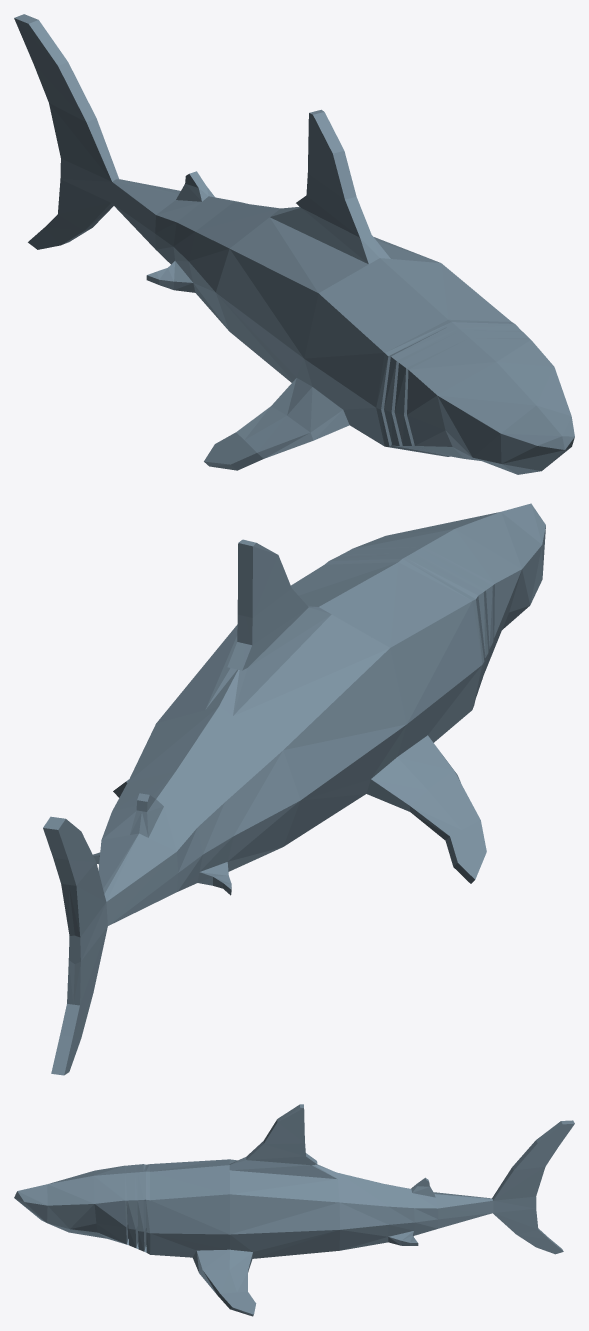
Rendered from shark.glb.
3 renders of one model, top to bottom at view 1: azimuth 30°, elevation 25°; view 2: azimuth 150°, elevation 25°; view 3: azimuth 270°, elevation 25°, orthographic. The views are drawn at different scales.
Visible parts, largest first — view 1: Shark.obj; view 2: Shark.obj; view 3: Shark.obj.
Boxes of the visible parts, bbox=[...] form: Shark.obj: bbox=[14, 14, 574, 474]; Shark.obj: bbox=[43, 503, 545, 1075]; Shark.obj: bbox=[14, 1104, 574, 1316].
Bounding box in the file's own units: 0.7463 × 0.6583 × 2.
